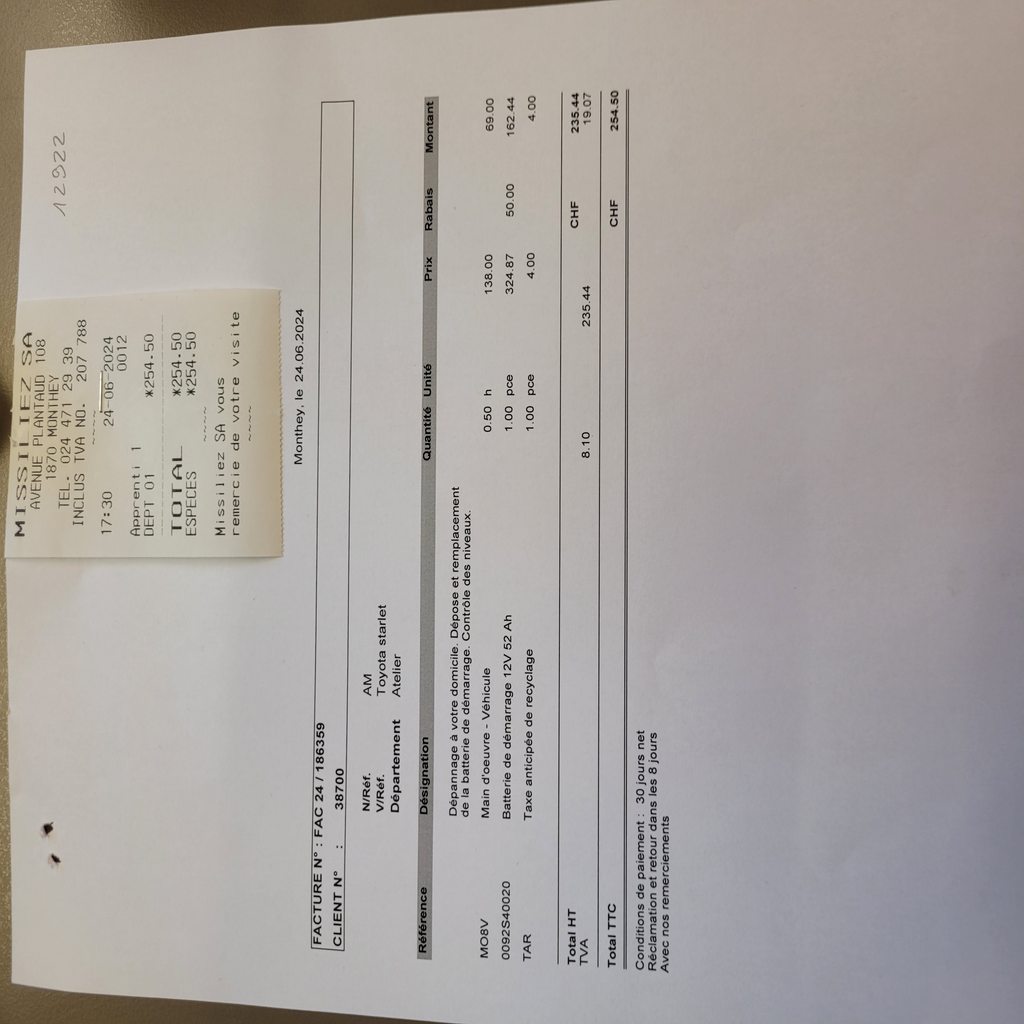recipt: (10, 0, 823, 1003)
